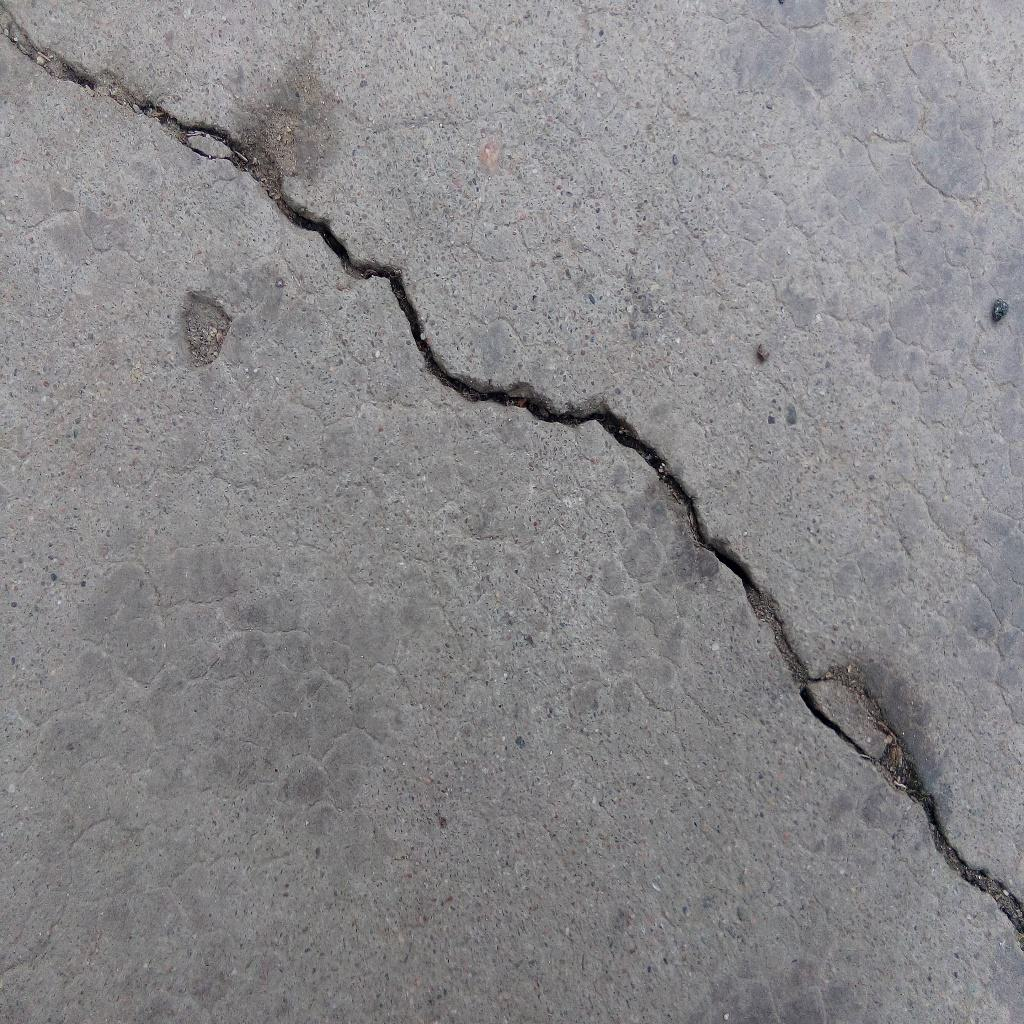Crack: (1, 1, 1024, 951)
